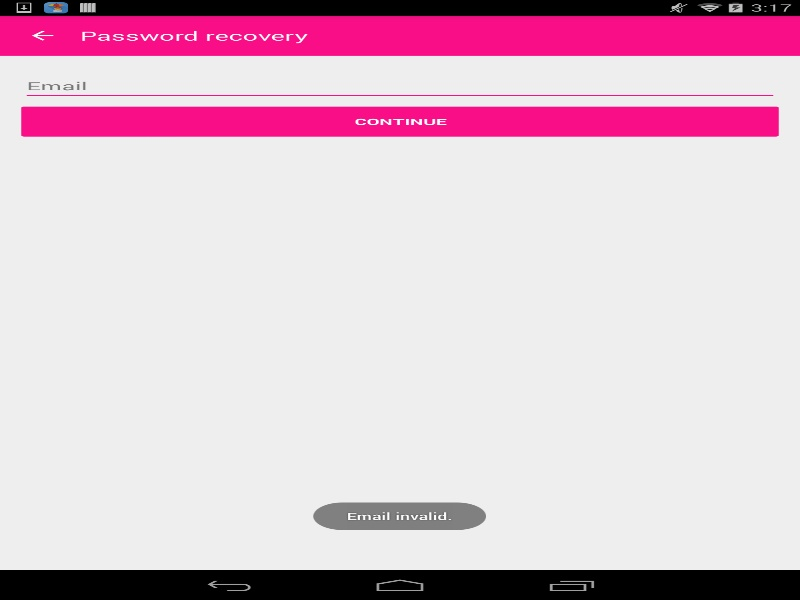Button: (21, 106, 778, 136), (0, 18, 74, 53)
Input: (21, 71, 778, 100)
